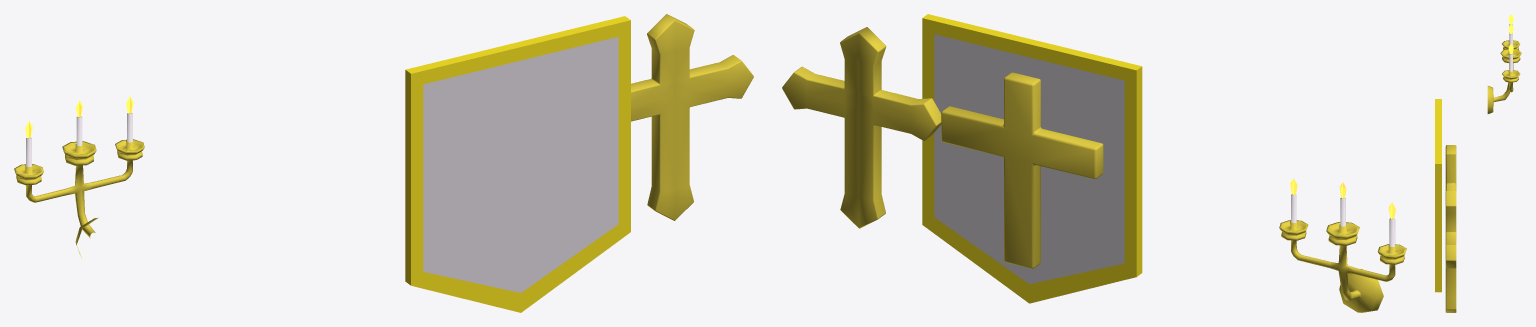
File: Cross.glb
3 views of the same model, side by side, from view 1: azimuth 30°, elevation 25°; view 2: azimuth 150°, elevation 25°; view 3: azimuth 270°, elevation 25° (orthographic). The views are drawn at different scales.
Visible parts, largest first — view 1: ChurchFlagWallDecoration.001, CrossDetailed, CandelabrumWall; view 2: ChurchFlagWallDecoration.001, CrossSimple, CrossDetailed, CandelabrumWall; view 3: CrossDetailed, ChurchFlagWallDecoration.001, CandelabrumWall, CrossSimple.
Boxes of the visible parts, x1,y1,x2,y2 form: ChurchFlagWallDecoration.001: (405, 16, 630, 312); CrossDetailed: (631, 14, 753, 220); CandelabrumWall: (14, 96, 144, 258); ChurchFlagWallDecoration.001: (922, 14, 1142, 303); CrossSimple: (941, 72, 1103, 268); CrossDetailed: (782, 27, 941, 228); CandelabrumWall: (1279, 178, 1406, 312); CrossDetailed: (1445, 191, 1456, 312); ChurchFlagWallDecoration.001: (1435, 99, 1441, 292); CandelabrumWall: (1487, 14, 1521, 113); CrossSimple: (1445, 145, 1456, 191).
Bounding box in the file's own units: 6.82 × 2.53 × 1.24.
